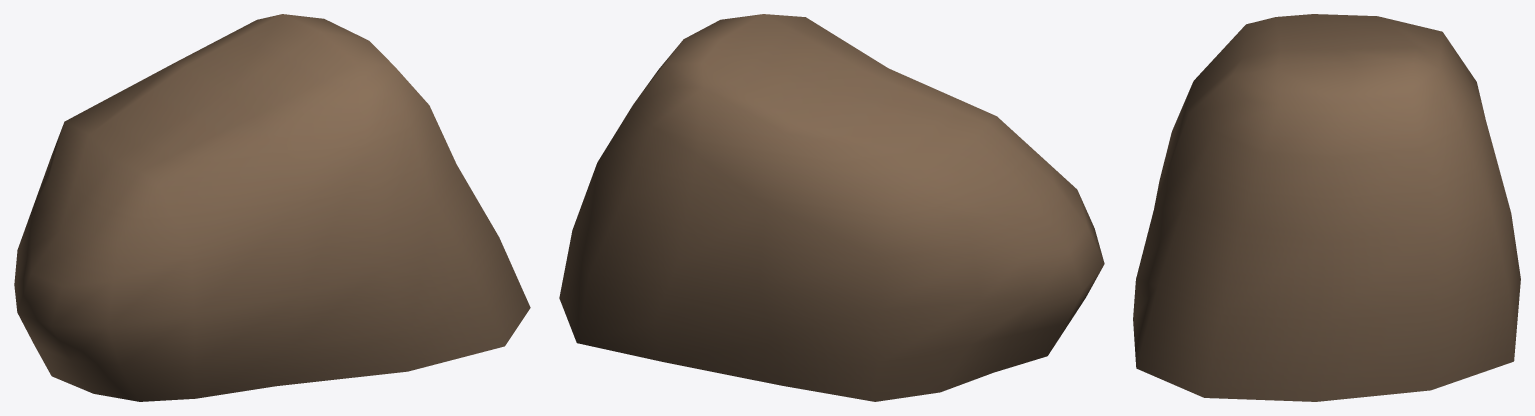
The model's file is Stone_01_A.fbx.
3 renders of one model, left to right at view 1: azimuth 30°, elevation 25°; view 2: azimuth 150°, elevation 25°; view 3: azimuth 270°, elevation 25°, orthographic. The views are drawn at different scales.
Parts seen in each view (by area): view 1: Stone_01_A; view 2: Stone_01_A; view 3: Stone_01_A.
Part boxes in pixels (box(x1,y1,x2,y2)): Stone_01_A: box(14, 14, 530, 401); Stone_01_A: box(559, 14, 1104, 401); Stone_01_A: box(1133, 14, 1520, 401).
Bounding box in the file's own units: 3579 × 1846 × 2485.
